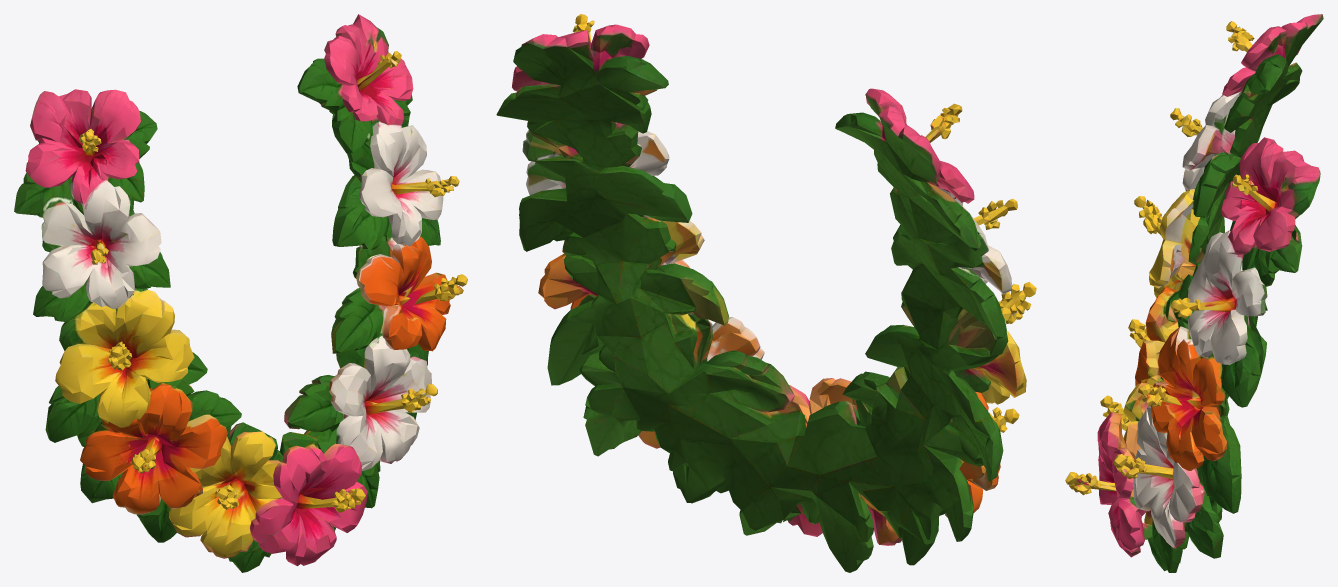
File: flower_lei.glb
3 views of the same model, side by side, from view 1: azimuth 30°, elevation 25°; view 2: azimuth 150°, elevation 25°; view 3: azimuth 270°, elevation 25° (orthographic). The views are drawn at different scales.
Visible parts, largest first — view 1: Mesh_0; view 2: Mesh_0; view 3: Mesh_0.
Part boxes in pixels (x1=…): Mesh_0: x1=14, y1=14, x2=467, y2=572; Mesh_0: x1=496, y1=14, x2=1036, y2=572; Mesh_0: x1=1065, y1=14, x2=1323, y2=572.
Bounding box in the file's own units: 0.9187 × 1 × 0.4966.
Materials: 1 (1 with a texture image).
